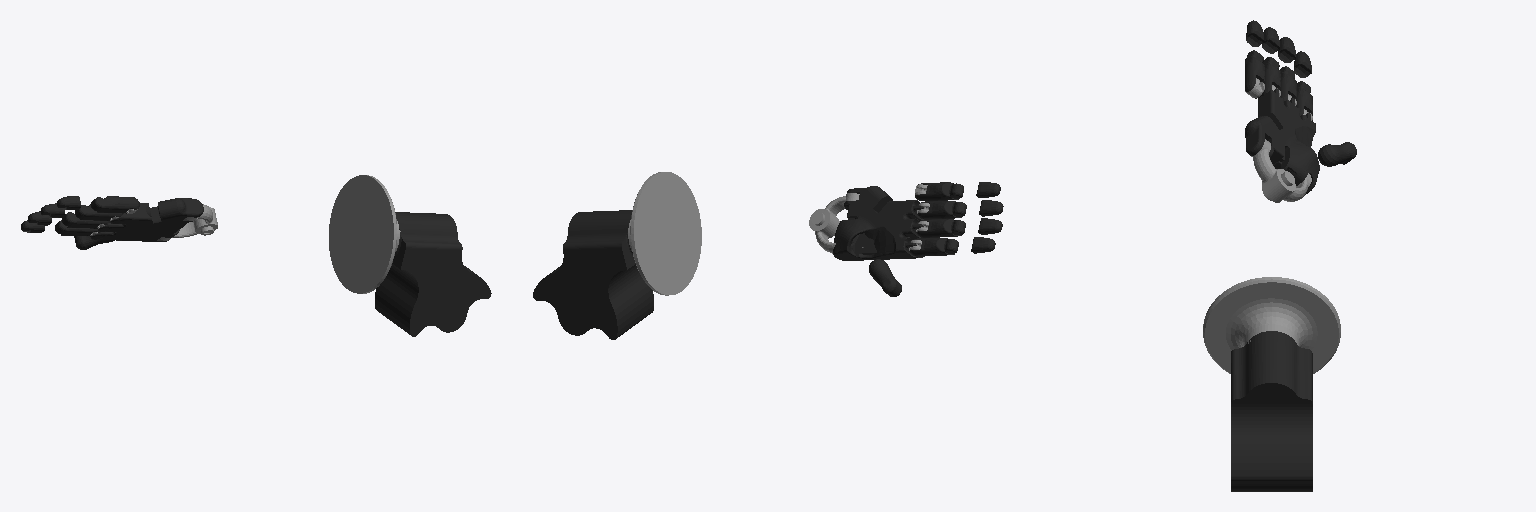
--- Render facts (derived) ---
The picture shows the robot from 3 angles, left to right: view 1: azimuth 30°, elevation 25°; view 2: azimuth 150°, elevation 25°; view 3: azimuth 270°, elevation 25°; orthographic projection.
Model arm_and_hand with 33 links and 32 joints (26 revolute, 6 fixed), rooted at world, posed joints at zero except 1 at the middle of their limits (ElbowJSwing = 1.31).
Visible links, largest first — view 1: shadowarm_lowerarm, shadowarm_handsupport, palm, wrist, lfproximal; view 2: shadowarm_lowerarm, shadowarm_handsupport, palm, wrist, mfproximal, lfproximal, rfproximal, ffproximal, thmiddle; view 3: shadowarm_lowerarm, shadowarm_handsupport, palm, wrist, thmiddle, lfproximal.
Boxes of the visible links, x1=… form: shadowarm_lowerarm: x1=375, y1=212, x2=491, y2=336; shadowarm_handsupport: x1=329, y1=175, x2=400, y2=293; palm: x1=91, y1=198, x2=203, y2=241; wrist: x1=160, y1=204, x2=217, y2=240; lfproximal: x1=91, y1=196, x2=139, y2=213; shadowarm_lowerarm: x1=533, y1=210, x2=653, y2=339; shadowarm_handsupport: x1=628, y1=172, x2=701, y2=295; palm: x1=833, y1=186, x2=924, y2=260; wrist: x1=809, y1=193, x2=859, y2=253; mfproximal: x1=916, y1=219, x2=965, y2=237; lfproximal: x1=915, y1=182, x2=963, y2=200; rfproximal: x1=917, y1=201, x2=966, y2=219; ffproximal: x1=909, y1=238, x2=958, y2=256; thmiddle: x1=869, y1=259, x2=901, y2=296; shadowarm_lowerarm: x1=1231, y1=331, x2=1312, y2=491; shadowarm_handsupport: x1=1203, y1=277, x2=1340, y2=373; palm: x1=1245, y1=88, x2=1319, y2=194; wrist: x1=1251, y1=139, x2=1311, y2=202; thmiddle: x1=1318, y1=142, x2=1356, y2=166; lfproximal: x1=1245, y1=50, x2=1264, y2=98.
Bounding box of the posed robot: 0.5758 × 0.1507 × 0.2746 m (x, y, z).
17 mesh visuals loaded from 13 distinct referenced files (8 Collada DAE); not drawn: 8 (reference not matched to a file when rendering).

URDF robot description (arm_and_hand):
<?xml version="1.0" ?>
<!-- =================================================================================== -->
<!-- |    This document was autogenerated by xacro from src/srsim/sr_description/robots/forearm_and_hand_motor.urdf.xacro | -->
<!-- |    EDITING THIS FILE BY HAND IS NOT RECOMMENDED                                 | -->
<!-- =================================================================================== -->
<robot name="arm_and_hand" xmlns:body="http://playerstage.sourceforge.net/gazebo/xmlschema/#body" xmlns:controller="http://playerstage.sourceforge.net/gazebo/xmlschema/#controller" xmlns:geom="http://playerstage.sourceforge.net/gazebo/xmlschema/#geom" xmlns:interface="http://playerstage.sourceforge.net/gazebo/xmlschema/#interface" xmlns:joint="http://playerstage.sourceforge.net/gazebo/xmlschema/#slider" xmlns:sensor="http://playerstage.sourceforge.net/gazebo/xmlschema/#sensor" xmlns:xacro="http://ros.org/wiki/xacro">
  <material name="Blue">
    <color rgba="0.0 0.0 0.8 1.0"/>
  </material>
  <material name="Green">
    <color rgba="0.0 0.8 0.0 1.0"/>
  </material>
  <material name="BiotacGreen">
    <color rgba="0.31 0.85 0.42 1.0"/>
  </material>
  <material name="Grey">
    <color rgba="0.2 0.2 0.2 1.0"/>
  </material>
  <material name="LightGrey">
    <color rgba="0.6 0.6 0.6 1.0"/>
  </material>
  <material name="Red">
    <color rgba="0.8 0.0 0.0 1.0"/>
  </material>
  <material name="White">
    <color rgba="1.0 1.0 1.0 1.0"/>
  </material>
  <!--
  <xacro:include filename="$(find sr_description)/arm/xacro/full_arm_motor.urdf.xacro" />
-->
  <link name="world"/>
  <!--
  <joint name="arm_to_world_fixed" type="fixed">
    <parent link="world"/>
    <child link="shadowarm_lowerarm"/>
    <origin xyz="0 0 1.2" rpy="${1.57} ${3.14} ${1.57}" />
  </joint>
  -->
  <link name="shadowarm_lowerarm">
    <inertial>
      <origin rpy="0 0 0" xyz="0 0 0"/>
      <mass value="0.5"/>
      <inertia ixx="0.0001" ixy="0.0" ixz="0.0" iyy="0.0001" iyz="0.0" izz="0.0001"/>
    </inertial>
    <visual>
      <origin rpy="0 0 0" xyz="0.03 0 0.036"/>
      <geometry name="shadowarm_visual">
        <mesh filename="package://sr_description/arm/model/elbow_flex.dae" scale="0.001 0.001 0.001"/>
      </geometry>
      <material name="Grey"/>
    </visual>
    <collision>
      <origin rpy="0 0 0" xyz="0.03 0 0.036"/>
      <geometry name="shadowarm_collision_geom">
        <mesh filename="package://sr_description/arm/model/elbow_flex.dae" scale="0.001 0.001 0.001"/>
      </geometry>
    </collision>
  </link>
  <gazebo reference="shadowarm_lowerarm">
    <material>LightGrey</material>
    <selfCollide>false</selfCollide>
  </gazebo>
  <joint name="ElbowJSwing" type="revolute">
    <parent link="world"/>
    <child link="shadowarm_lowerarm"/>
    <origin rpy="0 0 0" xyz="0 0 0.369"/>
    <axis xyz="0 -1 0"/>
    <limit effort="1000.0" lower="0.52" upper="2.09439510239" velocity="10.0"/>
    <dynamics damping="20.0"/>
  </joint>
  <gazebo reference="ElbowJSwing">
    <provideFeedback>1</provideFeedback>
    <implicitSpringDamper>1</implicitSpringDamper>
  </gazebo>
  <transmission name="elbow_abduction_transmission" type="sr_mechanism_model/SimpleTransmission">
    <actuator name="elbow_abduction"/>
    <joint name="ElbowJSwing"/>
    <mechanicalReduction>1</mechanicalReduction>
    <motorTorqueConstant>1</motorTorqueConstant>
    <pulsesPerRevolution>90000</pulsesPerRevolution>
  </transmission>
  <link name="shadowarm_handsupport">
    <inertial>
      <origin rpy="0 0 0" xyz="0 0 0"/>
      <mass value="0.75"/>
      <inertia ixx="0.0001" ixy="0.0" ixz="0.0" iyy="0.0001" iyz="0.0" izz="0.0001"/>
    </inertial>
    <visual>
      <origin rpy="0 0 0" xyz="0 0 -0.04"/>
      <geometry name="shadowarm_handsupport_visual">
        <mesh filename="package://sr_description/arm/model/elbow_rotate_motor.dae" scale="0.001 0.001 0.001"/>
      </geometry>
      <material name="LightGrey"/>
    </visual>
    <collision>
      <origin rpy="0 0 0" xyz="0 0 -0.005"/>
      <geometry name="shadowarm_handsupport_collision">
        <cylinder length="0.001" radius="0.06"/>
      </geometry>
    </collision>
  </link>
  <gazebo reference="shadowarm_handsupport">
    <material>Gazebo/Grey</material>
    <selfCollide>false</selfCollide>
  </gazebo>
  <joint name="ElbowJRotate" type="revolute">
    <parent link="shadowarm_lowerarm"/>
    <child link="shadowarm_handsupport"/>
    <origin rpy="0.0 0 0" xyz="0.08 0 0.125"/>
    <axis xyz="0 0 -1"/>
    <limit effort="1000.0" lower="-1.57079632679" upper="1.57079632679" velocity="10.0"/>
    <dynamics damping="30.0"/>
  </joint>
  <gazebo reference="ElbowJRotate">
    <provideFeedback>1</provideFeedback>
    <implicitSpringDamper>1</implicitSpringDamper>
  </gazebo>
  <transmission name="forearm_rotation_transmission" type="sr_mechanism_model/SimpleTransmission">
    <actuator name="forearm_rotation"/>
    <joint name="ElbowJRotate"/>
    <mechanicalReduction>1</mechanicalReduction>
    <motorTorqueConstant>1</motorTorqueConstant>
    <pulsesPerRevolution>90000</pulsesPerRevolution>
  </transmission>
  <!-- connects forearm to lowerarm -->
  <joint name="arm_link" type="fixed">
    <parent link="shadowarm_lowerarm"/>
    <child link="forearm"/>
    <origin rpy="0 0 2.35619449" xyz="0.08 0 0.121"/>
  </joint>
  <link name="forearm">
    <inertial>
      <origin rpy="0 0 0" xyz="0 0 0.09"/>
      <mass value="3.0"/>
      <inertia ixx="0.001" ixy="0.0" ixz="0.0" iyy="0.001" iyz="0.0" izz="0.001"/>
    </inertial>
    <visual>
      <origin rpy="0 0 0" xyz="0 0 0"/>
      <geometry name="shadow_forearm_geom">
        <mesh filename="package://sr_description/hand/model/forearm.dae" scale="0.001 0.001 0.001"/>
      </geometry>
      <material name="Grey"/>
    </visual>
    <collision>
      <origin rpy="0 0 0" xyz="0 0 0.09"/>
      <geometry name="shadow_forearm_collision">
        <cylinder length="0.180" radius="0.06"/>
      </geometry>
    </collision>
  </link>
  <gazebo reference="forearm">
    <material>LightGrey</material>
    <selfCollide>false</selfCollide>
  </gazebo>
  <link name="wrist">
    <inertial>
      <origin rpy="0 0 0" xyz="0 0.0 0.0"/>
      <!--<insert_block name="origin" />-->
      <mass value="0.1"/>
      <inertia ixx="0.000120" ixy="0.0" ixz="0.0" iyy="0.000148" iyz="0.0" izz="0.0000438"/>
    </inertial>
    <visual>
      <origin rpy="0 0 0" xyz="0 0 0"/>
      <geometry name="wrist_visual">
        <mesh filename="package://sr_description/hand/model/wrist.dae" scale="0.001 0.001 0.001"/>
      </geometry>
      <material name="LightGrey"/>
    </visual>
    <collision>
      <origin rpy="0 0 0" xyz="0 0 0"/>
      <geometry name="wrist_collision_geom">
        <box size="0.02 0.02 0.02"/>
      </geometry>
    </collision>
  </link>
  <gazebo reference="wrist">
    <material>PR2/Grey2</material>
    <selfCollide>false</selfCollide>
  </gazebo>
  <joint name="WRJ2" type="revolute">
    <parent link="forearm"/>
    <child link="wrist"/>
    <!--<origin xyz="0 -0.010 0.213" rpy="0 0 0" />-->
    <origin rpy="0 0 0" xyz="0 -0.010 0.213"/>
    <axis xyz="0 1 0"/>
    <limit effort="1000.0" lower="-0.52359877559829882" upper="0.17453292519943295" velocity="10.0"/>
    <dynamics damping="30.0"/>
  </joint>
  <gazebo reference="WRJ2">
    <provideFeedback>1</provideFeedback>
    <implicitSpringDamper>1</implicitSpringDamper>
  </gazebo>
  <transmission name="wrist_transmission" type="sr_mechanism_model/SimpleTransmission">
    <actuator name="WRJ2"/>
    <joint name="WRJ2"/>
    <mechanicalReduction>1</mechanicalReduction>
    <motorTorqueConstant>1</motorTorqueConstant>
    <pulsesPerRevolution>90000</pulsesPerRevolution>
  </transmission>
  <link name="palm">
    <inertial>
      <origin rpy="0 0 0" xyz="0 0 0.035"/>
      <mass value="0.3"/>
      <inertia ixx="0.0005" ixy="0.0" ixz="0.0" iyy="0.0005" iyz="0.0" izz="0.0003"/>
    </inertial>
    <visual>
      <origin rpy="0 0 0" xyz="0 0 0"/>
      <geometry name="palm_visual">
        <mesh filename="package://sr_description/hand/model/palm.dae" scale="0.001 0.001 0.001"/>
      </geometry>
      <material name="Grey"/>
    </visual>
    <collision>
      <origin rpy="0 0 0" xyz="0.005 0 0.035"/>
      <geometry name="palm_collision_geom">
        <box size="0.05 0.02 0.07"/>
      </geometry>
    </collision>
  </link>
  <gazebo reference="palm">
    <sensor name="palm_contact" type="contact">
      <always_on>1</always_on>
      <update_rate>1000.0</update_rate>
      <contact>
        <collision>palm_collision</collision>
        <topic>palm_collision</topic>
      </contact>
      <plugin filename="libgazebo_ros_bumper.so" name="palm_gazebo_ros_bumper_controller">
        <updateRate>100.0</updateRate>
        <frameName>palm</frameName>
        <bumperTopicName>contacts/palm</bumperTopicName>
      </plugin>
    </sensor>
    <material>LightGrey</material>
  </gazebo>
  <joint name="WRJ1" type="revolute">
    <parent link="wrist"/>
    <child link="palm"/>
    <origin rpy="0 0 0" xyz="0 0 0.034"/>
    <axis xyz="1 0 0"/>
    <limit effort="1000.0" lower="-0.7854" upper="0.5236" velocity="10.0"/>
    <dynamics damping="30.0"/>
  </joint>
  <gazebo reference="WRJ1">
    <provideFeedback>1</provideFeedback>
    <implicitSpringDamper>1</implicitSpringDamper>
  </gazebo>
  <transmission name="palm_transmission" type="sr_mechanism_model/SimpleTransmission">
    <actuator name="WRJ1"/>
    <joint name="WRJ1"/>
    <mechanicalReduction>1</mechanicalReduction>
    <motorTorqueConstant>1</motorTorqueConstant>
    <pulsesPerRevolution>90000</pulsesPerRevolution>
  </transmission>
  <link name="ffknuckle">
    <inertial>
      <origin rpy="0 0 0" xyz="0 0 0"/>
      <!--<insert_block name="origin" /> -->
      <mass value="0.008"/>
      <inertia ixx="1e-6" ixy="0.0" ixz="0.0" iyy="1e-6" iyz="0.0" izz="1e-6"/>
    </inertial>
    <visual>
      <origin rpy="0 0 0" xyz="0 0 0.0005"/>
      <geometry name="ffknuckle_visual">
        <mesh filename="package://sr_description/hand/model/knuckle.dae" scale="0.001 0.001 0.001"/>
      </geometry>
      <material name="LightGrey"/>
    </visual>
    <collision>
      <origin rpy="0 0 0" xyz="0 0 0"/>
      <geometry name="ffknuckle_collision_geom">
        <box size="0.005 0.005 0.005"/>
      </geometry>
    </collision>
  </link>
  <gazebo reference="ffknuckle">
    <sensor name="ffknuckle_contact" type="contact">
      <always_on>1</always_on>
      <update_rate>1000.0</update_rate>
      <contact>
        <collision>ffknuckle_collision</collision>
        <topic>ffknuckle_collision</topic>
      </contact>
      <plugin filename="libgazebo_ros_bumper.so" name="ffknuckle_gazebo_ros_bumper_controller">
        <updateRate>100.0</updateRate>
        <frameName>ffknuckle</frameName>
        <bumperTopicName>contacts/ff/knuckle</bumperTopicName>
      </plugin>
    </sensor>
    <material>Gazebo/Grey</material>
  </gazebo>
  <joint name="FFJ4" type="revolute">
    <parent link="palm"/>
    <child link="ffknuckle"/>
    <!--<origin xyz="0.033 0 0.095" rpy="0 0 0" />-->
    <origin rpy="0 0 0" xyz="0.033 0 0.095"/>
    <axis xyz="0 -1 0"/>
    <limit effort="1000.0" lower="-0.3491" upper="0.3491" velocity="10.0"/>
    <dynamics damping="10.0"/>
  </joint>
  <gazebo reference="FFJ4">
    <provideFeedback>1</provideFeedback>
    <implicitSpringDamper>1</implicitSpringDamper>
  </gazebo>
  <transmission name="ffknuckle_transmission" type="sr_mechanism_model/SimpleTransmission">
    <actuator name="FFJ4"/>
    <joint name="FFJ4"/>
    <mechanicalReduction>1</mechanicalReduction>
    <motorTorqueConstant>1</motorTorqueConstant>
    <pulsesPerRevolution>90000</pulsesPerRevolution>
  </transmission>
  <link name="ffproximal">
    <inertial>
      <mass value="0.014"/>
      <origin xyz="0 0 0.0225"/>
      <inertia ixx="0.00001" ixy="0.0" ixz="0.0" iyy="0.00001" iyz="0.0" izz="0.00001"/>
    </inertial>
    <visual>
      <origin rpy="0 0 0" xyz="0 0 0"/>
      <geometry name="proximal_visual">
        <mesh filename="package://sr_description/hand/model/F3.dae" scale="0.001 0.001 0.001"/>
      </geometry>
      <material name="Grey"/>
    </visual>
    <collision>
      <origin rpy="0 0 0 " xyz="0 0 0.025"/>
      <geometry name="proximal_collision_geom">
        <box size="0.008 0.008 0.04"/>
      </geometry>
    </collision>
  </link>
  <gazebo reference="ffproximal">
    <sensor name="ffproximal_contact" type="contact">
      <always_on>1</always_on>
      <update_rate>1000.0</update_rate>
      <contact>
        <collision>ffproximal_collision</collision>
        <topic>ffproximal_collision</topic>
      </contact>
      <plugin filename="libgazebo_ros_bumper.so" name="ffproximal_gazebo_ros_bumper_controller">
        <updateRate>100.0</updateRate>
        <frameName>ffproximal</frameName>
        <bumperTopicName>contacts/ff/proximal</bumperTopicName>
      </plugin>
    </sensor>
    <material>LightGrey</material>
  </gazebo>
  <joint name="FFJ3" type="revolute">
    <parent link="ffknuckle"/>
    <child link="ffproximal"/>
    <origin rpy="0 0 0" xyz="0 0 0"/>
    <axis xyz="1 0 0"/>
    <limit effort="1000.0" lower="0" upper="1.57079632679" velocity="10.0"/>
    <dynamics damping="10.0"/>
  </joint>
  <gazebo reference="FFJ3">
    <provideFeedback>1</provideFeedback>
    <implicitSpringDamper>1</implicitSpringDamper>
  </gazebo>
  <transmission name="ffproximal_transmission" type="sr_mechanism_model/SimpleTransmission">
    <actuator name="FFJ3"/>
    <joint name="FFJ3"/>
    <mechanicalReduction>1</mechanicalReduction>
    <motorTorqueConstant>1</motorTorqueConstant>
    <pulsesPerRevolution>90000</pulsesPerRevolution>
  </transmission>
  <link name="ffmiddle">
    <inertial>
      <origin rpy="0 0 0" xyz="0 0 0.0125"/>
      <mass value="0.012"/>
      <inertia ixx="0.0001" ixy="0.0" ixz="0.0" iyy="0.0001" iyz="0.0" izz="0.00001"/>
    </inertial>
    <visual>
      <origin rpy="0 0 0" xyz="0 0 0"/>
      <geometry name="ffmiddle_visual">
        <mesh filename="package://sr_description/hand/model/F2.dae" scale="0.001 0.001 0.001"/>
      </geometry>
      <material name="Grey"/>
    </visual>
    <collision>
      <origin rpy="0 0 0" xyz="0 0 0.0125"/>
      <geometry name="ffmiddle_collision_geom">
        <box size="0.008 0.008 0.015"/>
      </geometry>
    </collision>
  </link>
  <gazebo reference="ffmiddle">
    <sensor name="ffmiddle_contact" type="contact">
      <always_on>1</always_on>
      <update_rate>1000.0</update_rate>
      <contact>
        <collision>ffmiddle_collision</collision>
        <topic>ffmiddle_collision</topic>
      </contact>
      <plugin filename="libgazebo_ros_bumper.so" name="ffmiddle_gazebo_ros_bumper_controller">
        <updateRate>100.0</updateRate>
        <frameName>ffmiddle</frameName>
        <bumperTopicName>contacts/ff/middle</bumperTopicName>
      </plugin>
    </sensor>
    <material>LightGrey</material>
  </gazebo>
  <joint name="FFJ2" type="revolute">
    <parent link="ffproximal"/>
    <child link="ffmiddle"/>
    <origin rpy="0 0 0" xyz="0 0 0.045"/>
    <axis xyz="1 0 0"/>
    <limit effort="1000.0" lower="0" upper="1.57079632679" velocity="10.0"/>
    <dynamics damping="10.0"/>
  </joint>
  <gazebo reference="FFJ2">
    <provideFeedback>1</provideFeedback>
    <implicitSpringDamper>1</implicitSpringDamper>
  </gazebo>
  <transmission name="ffmiddle_transmission" type="sr_mechanism_model/J0Transmission">
    <actuator name="FFJ0"/>
    <joint1 name="FFJ1"/>
    <joint2 name="FFJ2"/>
    <mechanicalReduction>1</mechanicalReduction>
    <motorTorqueConstant>1</motorTorqueConstant>
    <pulsesPerRevolution>90000</pulsesPerRevolution>
  </transmission>
  <link name="ffdistal">
    <inertial>
      <mass value="0.010"/>
      <origin xyz="0 0 0.013"/>
      <inertia ixx="0.00001" ixy="0.0" ixz="0.0" iyy="0.00001" iyz="0.0" izz="0.00001"/>
    </inertial>
    <visual>
      <origin rpy="0 0 0" xyz="0 0 0"/>
      <geometry name="ffdistal_visual">
        <mesh filename="package://sr_description/hand/model/F1.dae" scale="0.001 0.001 0.001"/>
      </geometry>
      <material name="Grey"/>
    </visual>
    <collision>
      <origin rpy="0 0 0" xyz="0 0 0"/>
      <geometry name="ffdistal_collision_geom">
        <mesh filename="package://sr_description/hand/model/F1.dae" scale="0.001 0.001 0.001"/>
      </geometry>
    </collision>
  </link>
  <gazebo reference="ffdistal">
    <sensor name="ffdistal_contact" type="contact">
      <always_on>1</always_on>
      <update_rate>1000.0</update_rate>
      <contact>
        <collision>ffdistal_collision</collision>
        <topic>ffdistal_collision</topic>
      </contact>
      <plugin filename="libgazebo_ros_bumper.so" name="ffdistal_gazebo_ros_bumper_controller">
        <updateRate>100.0</updateRate>
        <frameName>ffdistal</frameName>
        <bumperTopicName>contacts/ff/distal</bumperTopicName>
      </plugin>
    </sensor>
    <selfCollide>true</selfCollide>
    <material>LightGrey</material>
  </gazebo>
  <joint name="FFJ1" type="revolute">
    <parent link="ffmiddle"/>
    <child link="ffdistal"/>
    <origin rpy="0 0 0" xyz="0 0 0.025"/>
    <axis xyz="1 0 0"/>
    <limit effort="1000.0" lower="0" upper="1.57079632679" velocity="10.0"/>
    <dynamics damping="10.0"/>
  </joint>
  <gazebo reference="FFJ1">
    <provideFeedback>1</provideFeedback>
    <implicitSpringDamper>1</implicitSpringDamper>
  </gazebo>
  <link name="fftip">
    <inertial>
      <mass value="0.001"/>
      <inertia ixx="0.0000001" ixy="0.0" ixz="0.0" iyy="0.0000001" iyz="0.0" izz="0.0000001"/>
    </inertial>
  </link>
  <joint name="FFtip" type="fixed">
    <parent link="ffdistal"/>
    <child link="fftip"/>
    <origin rpy="0 0 0" xyz="0 0 0.026"/>
  </joint>
  <link name="mfknuckle">
    <inertial>
      <origin rpy="0 0 0" xyz="0 0 0"/>
      <!--<insert_block name="origin" /> -->
      <mass value="0.008"/>
      <inertia ixx="1e-6" ixy="0.0" ixz="0.0" iyy="1e-6" iyz="0.0" izz="1e-6"/>
    </inertial>
    <visual>
      <origin rpy="0 0 0" xyz="0 0 0.0005"/>
      <geometry name="mfknuckle_visual">
        <mesh filename="package://sr_description/hand/model/knuckle.dae" scale="0.001 0.001 0.001"/>
      </geometry>
      <material name="LightGrey"/>
    </visual>
    <collision>
      <origin rpy="0 0 0" xyz="0 0 0"/>
      <geometry name="mfknuckle_collision_geom">
        <box size="0.005 0.005 0.005"/>
      </geometry>
    </collision>
  </link>
  <gazebo reference="mfknuckle">
    <sensor name="mfknuckle_contact" type="contact">
      <always_on>1</always_on>
      <update_rate>1000.0</update_rate>
      <contact>
        <collision>mfknuckle_collision</collision>
        <topic>mfknuckle_collision</topic>
      </contact>
      <plugin filename="libgazebo_ros_bumper.so" name="mfknuckle_gazebo_ros_bumper_controller">
        <updateRate>100.0</updateRate>
        <frameName>mfknuckle</frameName>
        <bumperTopicName>contacts/mf/knuckle</bumperTopicName>
      </plugin>
    </sensor>
    <material>Gazebo/Grey</material>
  </gazebo>
  <joint name="MFJ4" type="revolute">
    <parent link="palm"/>
    <child link="mfknuckle"/>
    <!--<origin xyz="0.033 0 0.095" rpy="0 0 0" />-->
    <origin rpy="0 0 0" xyz="0.011 0 0.099"/>
    <axis xyz="0 -1 0"/>
    <limit effort="1000.0" lower="-0.3491" upper="0.3491" velocity="10.0"/>
    <dynamics damping="10.0"/>
  </joint>
  <gazebo reference="MFJ4">
    <provideFeedback>1</provideFeedback>
    <implicitSpringDamper>1</implicitSpringDamper>
  </gazebo>
  <transmission name="mfknuckle_transmission" type="sr_mechanism_model/SimpleTransmission">
    <actuator name="MFJ4"/>
    <joint name="MFJ4"/>
    <mechanicalReduction>1</mechanicalReduction>
    <motorTorqueConstant>1</motorTorqueConstant>
    <pulsesPerRevolution>90000</pulsesPerRevolution>
  </transmission>
  <link name="mfproximal">
    <inertial>
      <mass value="0.014"/>
      <origin xyz="0 0 0.0225"/>
      <inertia ixx="0.00001" ixy="0.0" ixz="0.0" iyy="0.00001" iyz="0.0" izz="0.00001"/>
    </inertial>
    <visual>
      <origin rpy="0 0 0" xyz="0 0 0"/>
      <geometry name="proximal_visual">
        <mesh filename="package://sr_description/hand/model/F3.dae" scale="0.001 0.001 0.001"/>
      </geometry>
      <material name="Grey"/>
    </visual>
    <collision>
      <origin rpy="0 0 0 " xyz="0 0 0.025"/>
      <geometry name="proximal_collision_geom">
        <box size="0.008 0.008 0.04"/>
      </geometry>
    </collision>
  </link>
  <gazebo reference="mfproximal">
    <sensor name="mfproximal_contact" type="contact">
      <always_on>1</always_on>
      <update_rate>1000.0</update_rate>
      <contact>
        <collision>mfproximal_collision</collision>
        <topic>mfproximal_collision</topic>
      </contact>
      <plugin filename="libgazebo_ros_bumper.so" name="mfproximal_gazebo_ros_bumper_controller">
        <updateRate>100.0</updateRate>
        <frameName>mfproximal</frameName>
        <bumperTopicName>contacts/mf/proximal</bumperTopicName>
      </plugin>
    </sensor>
    <material>LightGrey</material>
  </gazebo>
  <joint name="MFJ3" type="revolute">
    <parent link="mfknuckle"/>
    <child link="mfproximal"/>
    <origin rpy="0 0 0" xyz="0 0 0"/>
    <axis xyz="1 0 0"/>
    <limit effort="1000.0" lower="0" upper="1.57079632679" velocity="10.0"/>
    <dynamics damping="10.0"/>
  </joint>
  <gazebo reference="MFJ3">
    <provideFeedback>1</provideFeedback>
    <implicitSpringDamper>1</implicitSpringDamper>
  </gazebo>
  <transmission name="mfproximal_transmission" type="sr_mechanism_model/SimpleTransmission">
    <actuator name="MFJ3"/>
    <joint name="MFJ3"/>
    <mechanicalReduction>1</mechanicalReduction>
    <motorTorqueConstant>1</motorTorqueConstant>
    <pulsesPerRevolution>90000</pulsesPerRevolution>
  </transmission>
  <link name="mfmiddle">
    <inertial>
      <origin rpy="0 0 0" xyz="0 0 0.0125"/>
      <mass value="0.012"/>
      <inertia ixx="0.0001" ixy="0.0" ixz="0.0" iyy="0.0001" iyz="0.0" izz="0.00001"/>
    </inertial>
    <visual>
      <origin rpy="0 0 0" xyz="0 0 0"/>
      <geometry name="mfmiddle_visual">
        <mesh filename="package://sr_description/hand/model/F2.dae" scale="0.001 0.001 0.001"/>
      </geometry>
      <material name="Grey"/>
    </visual>
    <collision>
      <origin rpy="0 0 0" xyz="0 0 0.0125"/>
      <geometry name="mfmiddle_collision_geom">
        <box size="0.008 0.008 0.015"/>
      </geometry>
    </collision>
  </link>
  <gazebo reference="mfmiddle">
    <sensor name="mfmiddle_contact" type="contact">
      <always_on>1</always_on>
      <update_rate>1000.0</update_rate>
      <contact>
        <collision>mfmiddle_collision</collision>
        <topic>mfmiddle_collision</topic>
      </contact>
      <plugin filename="libgazebo_ros_bumper.so" name="mfmiddle_gazebo_ros_bumper_controller">
        <updateRate>100.0</updateRate>
        <frameName>mfmiddle</frameName>
        <bumperTopicName>contacts/mf/middle</bumperTopicName>
      </plugin>
    </sensor>
    <material>LightGrey</material>
  </gazebo>
  <joint name="MFJ2" type="revolute">
    <parent link="mfproximal"/>
    <child link="mfmiddle"/>
    <origin rpy="0 0 0" xyz="0 0 0.045"/>
    <axis xyz="1 0 0"/>
    <limit effort="1000.0" lower="0" upper="1.57079632679" velocity="10.0"/>
    <dynamics damping="10.0"/>
  </joint>
  <gazebo reference="MFJ2">
    <provideFeedback>1</provideFeedback>
    <implicitSpringDamper>1</implicitSpringDamper>
  </gazebo>
  <transmission name="mfmiddle_transmission" type="sr_mechanism_model/J0Transmission">
    <actuator name="MFJ0"/>
    <joint1 name="MFJ1"/>
    <joint2 name="MFJ2"/>
    <mechanicalReduction>1</mechanicalReduction>
    <motorTorqueConstant>1</motorTorqueConstant>
    <pulsesPerRevolution>90000</pulsesPerRevolution>
  </transmission>
  <link name="mfdistal">
    <inertial>
      <mass value="0.010"/>
      <origin xyz="0 0 0.013"/>
      <inertia ixx="0.00001" ixy="0.0" ixz="0.0" iyy="0.00001" iyz="0.0" izz="0.00001"/>
    </inertial>
    <visual>
      <origin rpy="0 0 0" xyz="0 0 0"/>
      <geometry name="mfdistal_visual">
        <mesh filename="package://sr_description/hand/model/F1.dae" scale="0.001 0.001 0.001"/>
      </geometry>
      <material name="Grey"/>
    </visual>
    <collision>
      <origin rpy="0 0 0" xyz="0 0 0"/>
      <geometry name="mfdistal_collision_geom">
        <mesh filename="package://sr_description/hand/model/F1.dae" scale="0.001 0.001 0.001"/>
      </geometry>
    </collision>
  </link>
  <gazebo reference="mfdistal">
    <sensor name="mfdistal_contact" type="contact">
      <always_on>1</always_on>
      <update_rate>1000.0</update_rate>
      <contact>
        <collision>mfdistal_collision</collision>
        <topic>mfdistal_collision</topic>
      </contact>
      <plugin filename="libgazebo_ros_bumper.so" name="mfdistal_gazebo_ros_bumper_controller">
        <updateRate>100.0</updateRate>
        <frameName>mfdistal</frameName>
        <bumperTopicName>contacts/mf/distal</bumperTopicName>
      </plugin>
    </sensor>
    <selfCollide>true</selfCollide>
    <material>LightGrey</material>
  </gazebo>
  <joint name="MFJ1" type="revolute">
    <parent link="mfmiddle"/>
    <child link="mfdistal"/>
    <origin rpy="0 0 0" xyz="0 0 0.025"/>
    <axis xyz="1 0 0"/>
    <limit effort="1000.0" lower="0" upper="1.57079632679" velocity="10.0"/>
    <dynamics damping="10.0"/>
  </joint>
  <gazebo reference="MFJ1">
    <provideFeedback>1</provideFeedback>
    <implicitSpringDamper>1</implicitSpringDamper>
  </gazebo>
  <link name="mftip">
    <inertial>
      <mass value="0.001"/>
      <inertia ixx="0.0000001" ixy="0.0" ixz="0.0" iyy="0.0000001" iyz="0.0" izz="0.0000001"/>
    </inertial>
  </link>
  <joint name="MFtip" type="fixed">
    <parent link="mfdistal"/>
    <child link="mftip"/>
    <origin rpy="0 0 0" xyz="0 0 0.026"/>
  </joint>
  <link name="rfknuckle">
    <inertial>
      <origin rpy="0 0 0" xyz="0 0 0"/>
      <!--<insert_block name="origin" /> -->
      <mass value="0.008"/>
      <inertia ixx="1e-6" ixy="0.0" ixz="0.0" iyy="1e-6" iyz="0.0" izz="1e-6"/>
    </inertial>
    <visual>
      <origin rpy="0 0 0" xyz="0 0 0.0005"/>
      <geometry name="rfknuckle_visual">
        <mesh filename="package://sr_description/hand/model/knuckle.dae" scale="0.001 0.001 0.001"/>
      </geometry>
      <material name="LightGrey"/>
    </visual>
    <collision>
      <origin rpy="0 0 0" xyz="0 0 0"/>
      <geometry name="rfknuckle_collision_geom">
        <box size="0.005 0.005 0.005"/>
      </geometry>
    </collision>
  </link>
  <gazebo reference="rfknuckle">
    <sensor name="rfknuckle_contact" type="contact">
      <always_on>1</always_on>
      <update_rate>1000.0</update_rate>
      <contact>
        <collision>rfknuckle_collision</collision>
        <topic>rfknuckle_collision</topic>
      </contact>
      <plugin filename="libgazebo_ros_bumper.so" name="rfknuckle_gazebo_ros_bumper_controller">
        <updateRate>100.0</updateRate>
        <frameName>rfknuckle</frameName>
        <bumperTopicName>contacts/rf/knuckle</bumperTopicName>
      </plugin>
    </sensor>
    <material>Gazebo/Grey</material>
  </gazebo>
  <joint name="RFJ4" type="revolute">
    <parent link="palm"/>
    <child link="rfknuckle"/>
    <!--<origin xyz="0.033 0 0.095" rpy="0 0 0" />-->
    <origin rpy="0 0 0" xyz="-0.011 0 0.095"/>
    <axis xyz="0 1 0"/>
    <limit effort="1000.0" lower="-0.3491" upper="0.3491" velocity="10.0"/>
    <dynamics damping="10.0"/>
  </joint>
  <gazebo reference="RFJ4">
    <provideFeedback>1</provideFeedback>
    <implicitSpringDamper>1</implicitSpringDamper>
  </gazebo>
  <transmission name="rfknuckle_transmission" type="sr_mechanism_model/SimpleTransmission">
    <actuator name="RFJ4"/>
    <joint name="RFJ4"/>
    <mechanicalReduction>1</mechanicalReduction>
    <motorTorqueConstant>1</motorTorqueConstant>
    <pulsesPerRevolution>90000</pulsesPerRevolution>
  </transmission>
  <link name="rfproximal">
    <inertial>
      <mass value="0.014"/>
      <origin xyz="0 0 0.0225"/>
      <inertia ixx="0.00001" ixy="0.0" ixz="0.0" iyy="0.00001" iyz="0.0" izz="0.00001"/>
    </inertial>
    <visual>
      <origin rpy="0 0 0" xyz="0 0 0"/>
      <geometry name="proximal_visual">
        <mesh filename="package://sr_description/hand/model/F3.dae" scale="0.001 0.001 0.001"/>
      </geometry>
      <material name="Grey"/>
    </visual>
    <collision>
      <origin rpy="0 0 0 " xyz="0 0 0.025"/>
      <geometry name="proximal_collision_geom">
        <box size="0.008 0.008 0.04"/>
      </geometry>
    </collision>
  </link>
  <gazebo reference="rfproximal">
    <sensor name="rfproximal_contact" type="contact">
      <always_on>1</always_on>
      <update_rate>1000.0</update_rate>
      <contact>
        <collision>rfproximal_collision</collision>
        <topic>rfproximal_collision</topic>
      </contact>
      <plugin filename="libgazebo_ros_bumper.so" name="rfproximal_gazebo_ros_bumper_controller">
        <updateRate>100.0</updateRate>
        <frameName>rfproximal</frameName>
        <bumperTopicName>contacts/rf/proximal</bumperTopicName>
      </plugin>
    </sensor>
    <material>LightGrey</material>
  </gazebo>
  <joint name="RFJ3" type="revolute">
    <parent link="rfknuckle"/>
    <child link="rfproximal"/>
    <origin rpy="0 0 0" xyz="0 0 0"/>
    <axis xyz="1 0 0"/>
    <limit effort="1000.0" lower="0" upper="1.57079632679" velocity="10.0"/>
    <dynamics damping="10.0"/>
  </joint>
  <gazebo reference="RFJ3">
    <provideFeedback>1</provideFeedback>
    <implicitSpringDamper>1</implicitSpringDamper>
  </gazebo>
  <transmission name="rfproximal_transmission" type="sr_mechanism_model/SimpleTransmission">
    <actuator name="RFJ3"/>
    <joint name="RFJ3"/>
    <mechanicalReduction>1</mechanicalReduction>
    <motorTorqueConstant>1</motorTorqueConstant>
    <pulsesPerRevolution>90000</pulsesPerRevolution>
  </transmission>
  <link name="rfmiddle">
    <inertial>
      <origin rpy="0 0 0" xyz="0 0 0.0125"/>
      <mass value="0.012"/>
      <inertia ixx="0.0001" ixy="0.0" ixz="0.0" iyy="0.0001" iyz="0.0" izz="0.00001"/>
    </inertial>
    <visual>
      <origin rpy="0 0 0" xyz="0 0 0"/>
      <geometry name="rfmiddle_visual">
        <mesh filename="package://sr_description/hand/model/F2.dae" scale="0.001 0.001 0.001"/>
      </geometry>
      <material name="Grey"/>
    </visual>
    <collision>
      <origin rpy="0 0 0" xyz="0 0 0.0125"/>
      <geometry name="rfmiddle_collision_geom">
        <box size="0.008 0.008 0.015"/>
      </geometry>
    </collision>
  </link>
  <gazebo reference="rfmiddle">
    <sensor name="rfmiddle_contact" type="contact">
      <always_on>1</always_on>
      <update_rate>1000.0</update_rate>
      <contact>
        <collision>rfmiddle_collision</collision>
        <topic>rfmiddle_collision</topic>
      </contact>
      <plugin filename="libgazebo_ros_bumper.so" name="rfmiddle_gazebo_ros_bumper_controller">
        <updateRate>100.0</updateRate>
        <frameName>rfmiddle</frameName>
        <bumperTopicName>contacts/rf/middle</bumperTopicName>
      </plugin>
    </sensor>
    <material>LightGrey</material>
  </gazebo>
  <joint name="RFJ2" type="revolute">
    <parent link="rfproximal"/>
    <child link="rfmiddle"/>
    <origin rpy="0 0 0" xyz="0 0 0.045"/>
    <axis xyz="1 0 0"/>
    <limit effort="1000.0" lower="0" upper="1.57079632679" velocity="10.0"/>
    <dynamics damping="10.0"/>
  </joint>
  <gazebo reference="RFJ2">
    <provideFeedback>1</provideFeedback>
    <implicitSpringDamper>1</implicitSpringDamper>
  </gazebo>
  <transmission name="rfmiddle_transmission" type="sr_mechanism_model/J0Transmission">
    <actuator name="RFJ0"/>
    <joint1 name="RFJ1"/>
    <joint2 name="RFJ2"/>
    <mechanicalReduction>1</mechanicalReduction>
    <motorTorqueConstant>1</motorTorqueConstant>
    <pulsesPerRevolution>90000</pulsesPerRevolution>
  </transmission>
  <link name="rfdistal">
    <inertial>
      <mass value="0.010"/>
      <origin xyz="0 0 0.013"/>
      <inertia ixx="0.00001" ixy="0.0" ixz="0.0" iyy="0.00001" iyz="0.0" izz="0.00001"/>
    </inertial>
    <visual>
      <origin rpy="0 0 0" xyz="0 0 0"/>
      <geometry name="rfdistal_visual">
        <mesh filename="package://sr_description/hand/model/F1.dae" scale="0.001 0.001 0.001"/>
      </geometry>
      <material name="Grey"/>
    </visual>
    <collision>
      <origin rpy="0 0 0" xyz="0 0 0"/>
      <geometry name="rfdistal_collision_geom">
        <mesh filename="package://sr_description/hand/model/F1.dae" scale="0.001 0.001 0.001"/>
      </geometry>
    </collision>
  </link>
  <gazebo reference="rfdistal">
    <sensor name="rfdistal_contact" type="contact">
      <always_on>1</always_on>
      <update_rate>1000.0</update_rate>
      <contact>
        <collision>rfdistal_collision</collision>
        <topic>rfdistal_collision</topic>
      </contact>
      <plugin filename="libgazebo_ros_bumper.so" name="rfdistal_gazebo_ros_bumper_controller">
        <updateRate>100.0</updateRate>
        <frameName>rfdistal</frameName>
        <bumperTopicName>contacts/rf/distal</bumperTopicName>
      </plugin>
    </sensor>
    <selfCollide>true</selfCollide>
    <material>LightGrey</material>
  </gazebo>
  <joint name="RFJ1" type="revolute">
    <parent link="rfmiddle"/>
    <child link="rfdistal"/>
    <origin rpy="0 0 0" xyz="0 0 0.025"/>
    <axis xyz="1 0 0"/>
    <limit effort="1000.0" lower="0" upper="1.57079632679" velocity="10.0"/>
    <dynamics damping="10.0"/>
  </joint>
  <gazebo reference="RFJ1">
    <provideFeedback>1</provideFeedback>
    <implicitSpringDamper>1</implicitSpringDamper>
  </gazebo>
  <link name="rftip">
    <inertial>
      <mass value="0.001"/>
      <inertia ixx="0.0000001" ixy="0.0" ixz="0.0" iyy="0.0000001" iyz="0.0" izz="0.0000001"/>
    </inertial>
  </link>
  <joint name="RFtip" type="fixed">
    <parent link="rfdistal"/>
    <child link="rftip"/>
    <origin rpy="0 0 0" xyz="0 0 0.026"/>
  </joint>
  <link name="lfmetacarpal">
    <inertial>
      <origin rpy="0 0 0" xyz="0 0 0.04"/>
      <mass value="0.075"/>
      <inertia ixx="1e-6" ixy="0.0" ixz="0.0" iyy="1e-6" iyz="0.0" izz="1e-6"/>
    </inertial>
    <visual>
      <origin rpy="0 0 0" xyz="0 0 0"/>
      <geometry name="lfmetacarpal_visual">
        <mesh filename="package://sr_description/hand/model/lfmetacarpal.dae" scale="0.001 0.001 0.001"/>
      </geometry>
      <material name="Grey"/>
    </visual>
    <collision>
      <origin rpy="0 0 0" xyz="0 0 0.04"/>
      <geometry name="lfmetacarpal_collision_geom">
        <box size="0.008 0.008 0.03"/>
      </geometry>
    </collision>
  </link>
  <gazebo reference="lfmetacarpal">
    <sensor name="lfmetacarpal_contact" type="contact">
      <always_on>1</always_on>
      <update_rate>1000.0</update_rate>
      <contact>
        <collision>lfmetacarpal_collision</collision>
        <topic>lfmetacarpal_collision</topic>
      </contact>
      <plugin filename="libgazebo_ros_bumper.so" name="lfmetacarpal_gazebo_ros_bumper_controller">
        <updateRate>100.0</updateRate>
        <frameName>lfmetacarpal</frameName>
        <bumperTopicName>contacts/lf/metacarpal</bumperTopicName>
      </plugin>
    </sensor>
    <material>LightGrey</material>
  </gazebo>
  <joint name="LFJ5" type="revolute">
    <parent link="palm"/>
    <child link="lfmetacarpal"/>
    <origin rpy="0 0 0" xyz="-0.033 0 0.02071"/>
    <axis xyz="0.573576436 0 0.819152044"/>
    <limit effort="1000.0" lower="0" upper="0.785398163" velocity="10.0"/>
    <dynamics damping="10.0"/>
  </joint>
  <gazebo reference="LFJ5">
    <provideFeedback>1</provideFeedback>
    <implicitSpringDamper>1</implicitSpringDamper>
  </gazebo>
  <transmission name="lfmetacarpal_transmission" type="sr_mechanism_model/SimpleTransmission">
    <actuator name="LFJ5"/>
    <joint name="LFJ5"/>
    <mechanicalReduction>1</mechanicalReduction>
    <motorTorqueConstant>1</motorTorqueConstant>
    <pulsesPerRevolution>90000</pulsesPerRevolution>
  </transmission>
  <link name="lfknuckle">
    <inertial>
      <origin rpy="0 0 0" xyz="0 0 0"/>
      <!--<insert_block name="origin" /> -->
      <mass value="0.008"/>
      <inertia ixx="1e-6" ixy="0.0" ixz="0.0" iyy="1e-6" iyz="0.0" izz="1e-6"/>
    </inertial>
    <visual>
      <origin rpy="0 0 0" xyz="0 0 0.0005"/>
      <geometry name="lfknuckle_visual">
        <mesh filename="package://sr_description/hand/model/knuckle.dae" scale="0.001 0.001 0.001"/>
      </geometry>
      <material name="LightGrey"/>
    </visual>
    <collision>
      <origin rpy="0 0 0" xyz="0 0 0"/>
      <geometry name="lfknuckle_collision_geom">
        <box size="0.005 0.005 0.005"/>
      </geometry>
    </collision>
  </link>
  <gazebo reference="lfknuckle">
    <sensor name="lfknuckle_contact" type="contact">
      <always_on>1</always_on>
      <update_rate>1000.0</update_rate>
      <contact>
        <collision>lfknuckle_collision</collision>
        <topic>lfknuckle_collision</topic>
      </contact>
      <plugin filename="libgazebo_ros_bumper.so" name="lfknuckle_gazebo_ros_bumper_controller">
        <updateRate>100.0</updateRate>
        <frameName>lfknuckle</frameName>
        <bumperTopicName>contacts/lf/knuckle</bumperTopicName>
      </plugin>
    </sensor>
    <material>Gazebo/Grey</material>
  </gazebo>
  <joint name="LFJ4" type="revolute">
    <parent link="lfmetacarpal"/>
    <child link="lfknuckle"/>
    <!--<origin xyz="0.033 0 0.095" rpy="0 0 0" />-->
    <origin rpy="0 0 0" xyz="0 0 0.06579"/>
    <axis xyz="0 1 0"/>
    <limit effort="1000.0" lower="-0.3491" upper="0.3491" velocity="10.0"/>
    <dynamics damping="10.0"/>
  </joint>
  <gazebo reference="LFJ4">
    <provideFeedback>1</provideFeedback>
    <implicitSpringDamper>1</implicitSpringDamper>
  </gazebo>
  <transmission name="lfknuckle_transmission" type="sr_mechanism_model/SimpleTransmission">
    <actuator name="LFJ4"/>
    <joint name="LFJ4"/>
    <mechanicalReduction>1</mechanicalReduction>
    <motorTorqueConstant>1</motorTorqueConstant>
    <pulsesPerRevolution>90000</pulsesPerRevolution>
  </transmission>
  <link name="lfproximal">
    <inertial>
      <mass value="0.014"/>
      <origin xyz="0 0 0.0225"/>
      <inertia ixx="0.00001" ixy="0.0" ixz="0.0" iyy="0.00001" iyz="0.0" izz="0.00001"/>
    </inertial>
    <visual>
      <origin rpy="0 0 0" xyz="0 0 0"/>
      <geometry name="proximal_visual">
        <mesh filename="package://sr_description/hand/model/F3.dae" scale="0.001 0.001 0.001"/>
      </geometry>
      <material name="Grey"/>
    </visual>
    <collision>
      <origin rpy="0 0 0 " xyz="0 0 0.025"/>
      <geometry name="proximal_collision_geom">
        <box size="0.008 0.008 0.04"/>
      </geometry>
    </collision>
  </link>
  <gazebo reference="lfproximal">
    <sensor name="lfproximal_contact" type="contact">
      <always_on>1</always_on>
      <update_rate>1000.0</update_rate>
      <contact>
        <collision>lfproximal_collision</collision>
        <topic>lfproximal_collision</topic>
      </contact>
      <plugin filename="libgazebo_ros_bumper.so" name="lfproximal_gazebo_ros_bumper_controller">
        <updateRate>100.0</updateRate>
        <frameName>lfproximal</frameName>
        <bumperTopicName>contacts/lf/proximal</bumperTopicName>
      </plugin>
    </sensor>
    <material>LightGrey</material>
  </gazebo>
  <joint name="LFJ3" type="revolute">
    <parent link="lfknuckle"/>
    <child link="lfproximal"/>
    <origin rpy="0 0 0" xyz="0 0 0"/>
    <axis xyz="1 0 0"/>
    <limit effort="1000.0" lower="0" upper="1.57079632679" velocity="10.0"/>
    <dynamics damping="10.0"/>
  </joint>
  <gazebo reference="LFJ3">
    <provideFeedback>1</provideFeedback>
    <implicitSpringDamper>1</implicitSpringDamper>
  </gazebo>
  <transmission name="lfproximal_transmission" type="sr_mechanism_model/SimpleTransmission">
    <actuator name="LFJ3"/>
    <joint name="LFJ3"/>
    <mechanicalReduction>1</mechanicalReduction>
    <motorTorqueConstant>1</motorTorqueConstant>
    <pulsesPerRevolution>90000</pulsesPerRevolution>
  </transmission>
  <link name="lfmiddle">
    <inertial>
      <origin rpy="0 0 0" xyz="0 0 0.0125"/>
      <mass value="0.012"/>
      <inertia ixx="0.0001" ixy="0.0" ixz="0.0" iyy="0.0001" iyz="0.0" izz="0.00001"/>
    </inertial>
    <visual>
      <origin rpy="0 0 0" xyz="0 0 0"/>
      <geometry name="lfmiddle_visual">
        <mesh filename="package://sr_description/hand/model/F2.dae" scale="0.001 0.001 0.001"/>
      </geometry>
      <material name="Grey"/>
    </visual>
    <collision>
      <origin rpy="0 0 0" xyz="0 0 0.0125"/>
      <geometry name="lfmiddle_collision_geom">
        <box size="0.008 0.008 0.015"/>
      </geometry>
    </collision>
  </link>
  <gazebo reference="lfmiddle">
    <sensor name="lfmiddle_contact" type="contact">
      <always_on>1</always_on>
      <update_rate>1000.0</update_rate>
      <contact>
        <collision>lfmiddle_collision</collision>
        <topic>lfmiddle_collision</topic>
      </contact>
      <plugin filename="libgazebo_ros_bumper.so" name="lfmiddle_gazebo_ros_bumper_controller">
        <updateRate>100.0</updateRate>
        <frameName>lfmiddle</frameName>
        <bumperTopicName>contacts/lf/middle</bumperTopicName>
      </plugin>
    </sensor>
    <material>LightGrey</material>
  </gazebo>
  <joint name="LFJ2" type="revolute">
    <parent link="lfproximal"/>
    <child link="lfmiddle"/>
    <origin rpy="0 0 0" xyz="0 0 0.045"/>
    <axis xyz="1 0 0"/>
    <limit effort="1000.0" lower="0" upper="1.57079632679" velocity="10.0"/>
    <dynamics damping="10.0"/>
  </joint>
  <gazebo reference="LFJ2">
    <provideFeedback>1</provideFeedback>
    <implicitSpringDamper>1</implicitSpringDamper>
  </gazebo>
  <transmission name="lfmiddle_transmission" type="sr_mechanism_model/J0Transmission">
    <actuator name="LFJ0"/>
    <joint1 name="LFJ1"/>
    <joint2 name="LFJ2"/>
    <mechanicalReduction>1</mechanicalReduction>
    <motorTorqueConstant>1</motorTorqueConstant>
    <pulsesPerRevolution>90000</pulsesPerRevolution>
  </transmission>
  <link name="lfdistal">
    <inertial>
      <mass value="0.010"/>
      <origin xyz="0 0 0.013"/>
      <inertia ixx="0.00001" ixy="0.0" ixz="0.0" iyy="0.00001" iyz="0.0" izz="0.00001"/>
    </inertial>
    <visual>
      <origin rpy="0 0 0" xyz="0 0 0"/>
      <geometry name="lfdistal_visual">
        <mesh filename="package://sr_description/hand/model/F1.dae" scale="0.001 0.001 0.001"/>
      </geometry>
      <material name="Grey"/>
    </visual>
    <collision>
      <origin rpy="0 0 0" xyz="0 0 0"/>
      <geometry name="lfdistal_collision_geom">
        <mesh filename="package://sr_description/hand/model/F1.dae" scale="0.001 0.001 0.001"/>
      </geometry>
    </collision>
  </link>
  <gazebo reference="lfdistal">
    <sensor name="lfdistal_contact" type="contact">
      <always_on>1</always_on>
      <update_rate>1000.0</update_rate>
      <contact>
        <collision>lfdistal_collision</collision>
        <topic>lfdistal_collision</topic>
      </contact>
      <plugin filename="libgazebo_ros_bumper.so" name="lfdistal_gazebo_ros_bumper_controller">
        <updateRate>100.0</updateRate>
        <frameName>lfdistal</frameName>
        <bumperTopicName>contacts/lf/distal</bumperTopicName>
      </plugin>
    </sensor>
    <selfCollide>true</selfCollide>
    <material>LightGrey</material>
  </gazebo>
  <joint name="LFJ1" type="revolute">
    <parent link="lfmiddle"/>
    <child link="lfdistal"/>
    <origin rpy="0 0 0" xyz="0 0 0.025"/>
    <axis xyz="1 0 0"/>
    <limit effort="1000.0" lower="0" upper="1.57079632679" velocity="10.0"/>
    <dynamics damping="10.0"/>
  </joint>
  <gazebo reference="LFJ1">
    <provideFeedback>1</provideFeedback>
    <implicitSpringDamper>1</implicitSpringDamper>
  </gazebo>
  <link name="lftip">
    <inertial>
      <mass value="0.001"/>
      <inertia ixx="0.0000001" ixy="0.0" ixz="0.0" iyy="0.0000001" iyz="0.0" izz="0.0000001"/>
    </inertial>
  </link>
  <joint name="LFtip" type="fixed">
    <parent link="lfdistal"/>
    <child link="lftip"/>
    <origin rpy="0 0 0" xyz="0 0 0.026"/>
  </joint>
  <link name="thbase">
    <inertial>
      <mass value="0.010"/>
      <origin rpy="0 0 0" xyz="0 0 0"/>
      <inertia ixx="0.00001" ixy="0.0" ixz="0.0" iyy="0.00001" iyz="0.0" izz="0.00001"/>
    </inertial>
    <visual>
      <origin rpy="0 0 0" xyz="0 0 0"/>
      <geometry name="thbase_visual">
        <box size="0.001 0.001 0.001"/>
      </geometry>
      <material name="shadow_thbase_material">
        <color rgba="0.5 0.5 0.5 1.0"/>
      </material>
    </visual>
    <collision>
      <origin rpy="0 0 0 " xyz="0 0 0"/>
      <geometry name="thbase_collision_geom">
        <box size="0.001 0.001 0.001"/>
      </geometry>
    </collision>
  </link>
  <gazebo reference="thbase">
    <sensor name="thbase_contact" type="contact">
      <always_on>1</always_on>
      <update_rate>1000.0</update_rate>
      <contact>
        <collision>thbase_collision</collision>
        <topic>thbase_collision</topic>
      </contact>
      <plugin filename="libgazebo_ros_bumper.so" name="thbase_gazebo_ros_bumper_controller">
        <updateRate>100.0</updateRate>
        <frameName>thbase</frameName>
        <bumperTopicName>contacts/th/base</bumperTopicName>
      </plugin>
    </sensor>
    <material>LightGrey</material>
  </gazebo>
  <joint name="THJ5" type="revolute">
    <parent link="palm"/>
    <child link="thbase"/>
    <origin rpy="0 0.785398163397 0" xyz="0.034 -0.0085 0.029"/>
    <axis xyz="0 0 -1.0"/>
    <limit effort="1000.0" lower="-1.047" upper="1.047" velocity="10.0"/>
    <dynamics damping="10.0"/>
  </joint>
  <gazebo reference="THJ5">
    <provideFeedback>1</provideFeedback>
    <implicitSpringDamper>1</implicitSpringDamper>
  </gazebo>
  <transmission name="thbase_transmission" type="sr_mechanism_model/SimpleTransmission">
    <actuator name="THJ5"/>
    <joint name="THJ5"/>
    <mechanicalReduction>1</mechanicalReduction>
    <motorTorqueConstant>1</motorTorqueConstant>
    <pulsesPerRevolution>90000</pulsesPerRevolution>
  </transmission>
  <link name="thproximal">
    <inertial>
      <mass value="0.016"/>
      <origin rpy="0 0 0" xyz="0 0 0.019"/>
      <inertia ixx="1e-6" ixy="0.0" ixz="0.0" iyy="1e-6" iyz="0.0" izz="1e-6"/>
    </inertial>
    <visual>
      <origin rpy="0 0 0" xyz="0 0 0"/>
      <geometry name="thproximal_visual">
        <mesh filename="package://sr_description/hand/model/TH3_z.dae" scale="0.001 0.001 0.001"/>
      </geometry>
      <material name="shadow_thproximal_material">
        <color rgba="0.2 0.2 0.2 1.0"/>
      </material>
    </visual>
    <collision>
      <origin rpy="0 0 0" xyz="0 0 0.019"/>
      <geometry name="thproximal_collision_geom">
        <box size="0.008 0.008 0.020"/>
      </geometry>
    </collision>
  </link>
  <gazebo reference="thproximal">
    <sensor name="thproximal_contact" type="contact">
      <always_on>1</always_on>
      <update_rate>1000.0</update_rate>
      <contact>
        <collision>thproximal_collision</collision>
        <topic>thproximal_collision</topic>
      </contact>
      <plugin filename="libgazebo_ros_bumper.so" name="thproximal_gazebo_ros_bumper_controller">
        <updateRate>100.0</updateRate>
        <frameName>thproximal</frameName>
        <bumperTopicName>contacts/th/proximal</bumperTopicName>
      </plugin>
    </sensor>
    <material>LightGrey</material>
  </gazebo>
  <joint name="THJ4" type="revolute">
    <parent link="thbase"/>
    <child link="thproximal"/>
    <origin rpy="0 0 0" xyz="0 0 0"/>
    <axis xyz="1.0 0 0"/>
    <limit effort="1000.0" lower="0" upper="1.309" velocity="10.0"/>
    <dynamics damping="10.0"/>
  </joint>
  <gazebo reference="THJ4">
    <provideFeedback>1</provideFeedback>
    <implicitSpringDamper>1</implicitSpringDamper>
  </gazebo>
  <transmission name="thproximal_transmission" type="sr_mechanism_model/SimpleTransmission">
    <actuator name="THJ4"/>
    <joint name="THJ4"/>
    <mechanicalReduction>1</mechanicalReduction>
    <motorTorqueConstant>1</motorTorqueConstant>
    <pulsesPerRevolution>90000</pulsesPerRevolution>
  </transmission>
  <link name="thhub">
    <inertial>
      <mass value="0.002"/>
      <origin rpy="0 0 0" xyz="0 0 0"/>
      <inertia ixx="1e-6" ixy="0.0" ixz="0.0" iyy="1e-6" iyz="0.0" izz="1e-6"/>
    </inertial>
    <visual>
      <origin rpy="0 0 0" xyz="0 0 0"/>
      <geometry name="thhub_visual">
        <box size="0.001 0.001 0.001"/>
      </geometry>
      <material name="shadow_thhub_material">
        <color rgba="0.7 0.7 0.7 1.0"/>
      </material>
    </visual>
    <collision>
      <origin rpy="0 0 0 " xyz="0 0 0"/>
      <geometry name="thhub_collision_geom">
        <box size="0.001 0.001 0.001"/>
      </geometry>
    </collision>
  </link>
  <gazebo reference="thhub">
    <sensor name="thhub_contact" type="contact">
      <always_on>1</always_on>
      <update_rate>1000.0</update_rate>
      <contact>
        <collision>thhub_collision</collision>
        <topic>thhub_collision</topic>
      </contact>
      <plugin filename="libgazebo_ros_bumper.so" name="thhub_gazebo_ros_bumper_controller">
        <updateRate>100.0</updateRate>
        <frameName>thhub</frameName>
        <bumperTopicName>contacts/th/hub</bumperTopicName>
      </plugin>
    </sensor>
    <material>LightGrey</material>
  </gazebo>
  <joint name="THJ3" type="revolute">
    <parent link="thproximal"/>
    <child link="thhub"/>
    <origin rpy="0 0 0" xyz="0 0 0.038"/>
    <axis xyz="1 0 0"/>
    <limit effort="1000.0" lower="-0.2618" upper="0.2618" velocity="10.0"/>
    <dynamics damping="10.0"/>
  </joint>
  <gazebo reference="THJ3">
    <provideFeedback>1</provideFeedback>
    <implicitSpringDamper>1</implicitSpringDamper>
  </gazebo>
  <transmission name="thhub_transmission" type="sr_mechanism_model/SimpleTransmission">
    <actuator name="THJ3"/>
    <joint name="THJ3"/>
    <mechanicalReduction>1</mechanicalReduction>
    <motorTorqueConstant>1</motorTorqueConstant>
    <pulsesPerRevolution>90000</pulsesPerRevolution>
  </transmission>
  <link name="thmiddle">
    <inertial>
      <mass value="0.016"/>
      <origin rpy="0 0 0" xyz="0 0 0.016"/>
      <inertia ixx="1e-6" ixy="0.0" ixz="0.0" iyy="1e-6" iyz="0.0" izz="1e-6"/>
    </inertial>
    <visual>
      <origin rpy="0 0 0" xyz="0 0 0"/>
      <geometry name="thmiddle_visual">
        <mesh filename="package://sr_description/hand/model/TH2_z.dae" scale="0.001 0.001 0.001"/>
      </geometry>
      <material name="shadow_thmiddle_material">
        <color rgba="0.2 0.2 0.2 1.0"/>
      </material>
    </visual>
    <collision>
      <origin rpy="0 0 0 " xyz="0 0 0.016"/>
      <geometry name="thmiddle_collision_geom">
        <box size="0.008 0.008 0.015"/>
      </geometry>
    </collision>
  </link>
  <gazebo reference="thmiddle">
    <sensor name="thmiddle_contact" type="contact">
      <always_on>1</always_on>
      <update_rate>1000.0</update_rate>
      <contact>
        <collision>thmiddle_collision</collision>
        <topic>thmiddle_collision</topic>
      </contact>
      <plugin filename="libgazebo_ros_bumper.so" name="thmiddle_gazebo_ros_bumper_controller">
        <updateRate>100.0</updateRate>
        <frameName>thmiddle</frameName>
        <bumperTopicName>contacts/th/middle</bumperTopicName>
      </plugin>
    </sensor>
    <material>LightGrey</material>
  </gazebo>
  <joint name="THJ2" type="revolute">
    <parent link="thhub"/>
    <child link="thmiddle"/>
    <origin rpy="0 0 0" xyz="0 0 0"/>
    <axis xyz="0 -1 0"/>
    <limit effort="1000.0" lower="-0.6981" upper="0.6981" velocity="10.0"/>
    <dynamics damping="10.0"/>
  </joint>
  <gazebo reference="THJ2">
    <provideFeedback>1</provideFeedback>
    <implicitSpringDamper>1</implicitSpringDamper>
  </gazebo>
  <!-- test soft collision -->
  <gazebo reference="palm">
    <soft_contact>
      <dart>
        <flesh_mass_fraction>0.5</flesh_mass_fraction>
        <bone_attachment>500.0</bone_attachment>
        <stiffness>0.0</stiffness>
        <damping>5.0</damping>
      </dart>
    </soft_contact>
  </gazebo>
  <transmission name="thmiddle_transmission" type="sr_mechanism_model/SimpleTransmission">
    <actuator name="THJ2"/>
    <joint name="THJ2"/>
    <mechanicalReduction>1</mechanicalReduction>
    <motorTorqueConstant>1</motorTorqueConstant>
    <pulsesPerRevolution>90000</pulsesPerRevolution>
  </transmission>
  <link name="thdistal">
    <inertial>
      <mass value="0.016"/>
      <origin rpy="0 0 0" xyz="0 0 0.01375"/>
      <inertia ixx="1e-6" ixy="0.0" ixz="0.0" iyy="1e-6" iyz="0.0" izz="1e-6"/>
    </inertial>
    <visual>
      <origin rpy="0 0 0" xyz="0 0 0"/>
      <geometry name="thdistal_visual">
        <mesh filename="package://sr_description/hand/model/TH1_z.dae" scale="0.001 0.001 0.001"/>
      </geometry>
      <material name="shadow_thmiddle_material">
        <color rgba="0.2 0.2 0.2 1.0"/>
      </material>
    </visual>
    <collision>
      <origin rpy="0 0 0 " xyz="0 0 0"/>
      <geometry name="thmiddle_collision_geom">
        <mesh filename="package://sr_description/hand/model/TH1_z.dae" scale="0.001 0.001 0.001"/>
        <!--	  <box size="0.015 0.015 0.015" /> -->
      </geometry>
    </collision>
  </link>
  <gazebo reference="thdistal">
    <sensor name="thdistal_contact" type="contact">
      <always_on>1</always_on>
      <update_rate>1000.0</update_rate>
      <contact>
        <collision>thdistal_collision</collision>
        <topic>thdistal_collision</topic>
      </contact>
      <plugin filename="libgazebo_ros_bumper.so" name="thdistal_gazebo_ros_bumper_controller">
        <updateRate>100.0</updateRate>
        <frameName>thdistal</frameName>
        <bumperTopicName>contacts/th/distal</bumperTopicName>
      </plugin>
    </sensor>
    <material>LightGrey</material>
    <selfCollide>true</selfCollide>
  </gazebo>
  <joint name="THJ1" type="revolute">
    <parent link="thmiddle"/>
    <child link="thdistal"/>
    <origin rpy="0 0 -1.570796327" xyz="0 0 0.032"/>
    <axis xyz="1 0 0"/>
    <limit effort="1000.0" lower="0" upper="1.571" velocity="10.0"/>
    <dynamics damping="10.0"/>
  </joint>
  <gazebo reference="THJ1">
    <provideFeedback>1</provideFeedback>
    <implicitSpringDamper>1</implicitSpringDamper>
  </gazebo>
  <link name="thtip">
    <inertial>
      <mass value="0.001"/>
      <inertia ixx="0.00001" ixy="0.0" ixz="0.0" iyy="0.00001" iyz="0.0" izz="0.00001"/>
    </inertial>
  </link>
  <joint name="thtip" type="fixed">
    <parent link="thdistal"/>
    <child link="thtip"/>
    <origin rpy="0 0 0" xyz="0 0 0.0275"/>
  </joint>
  <transmission name="thdistal_transmission" type="sr_mechanism_model/SimpleTransmission">
    <actuator name="THJ1"/>
    <joint name="THJ1"/>
    <mechanicalReduction>1</mechanicalReduction>
    <motorTorqueConstant>1</motorTorqueConstant>
    <pulsesPerRevolution>90000</pulsesPerRevolution>
  </transmission>
</robot>
